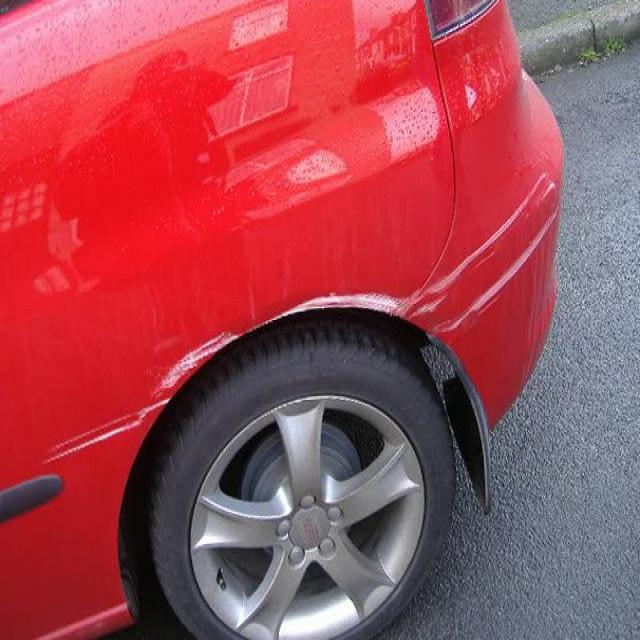scratch: (152, 275, 427, 410)
